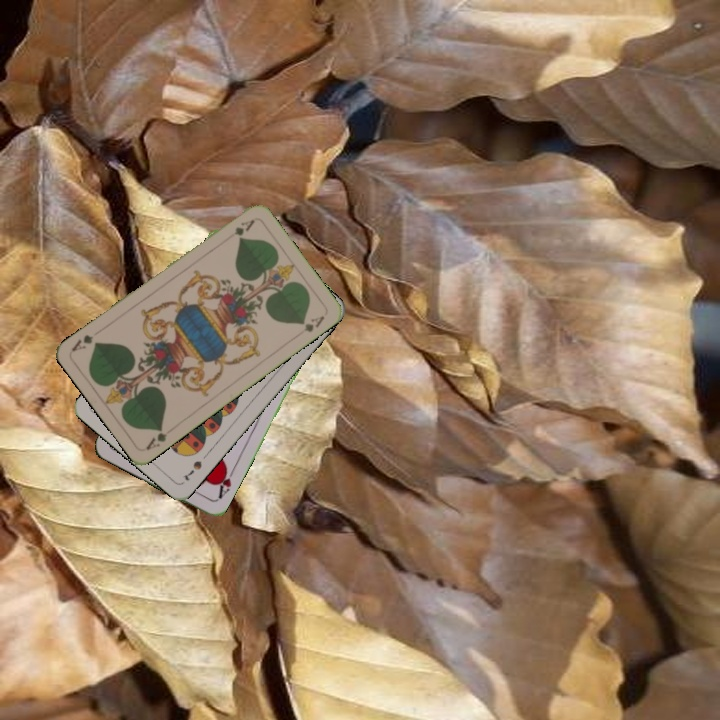GA: (221, 215, 257, 242), (142, 423, 170, 453)
HA: (212, 463, 237, 503)
S7: (179, 456, 205, 483)
